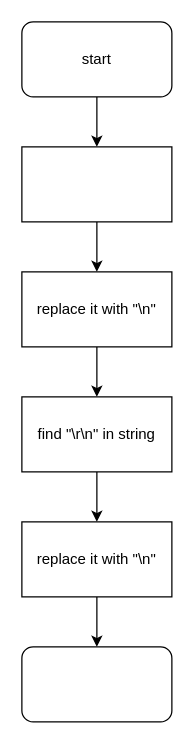
Some shapes in this 194 by 744 pixel diagram are drawn without their labels. The shapes that lost their labels are listed below. From the top down, each one's centre as x and y in pixels, then its label:
pixel 96 184: find "\n\r" in string
pixel 96 684: end
